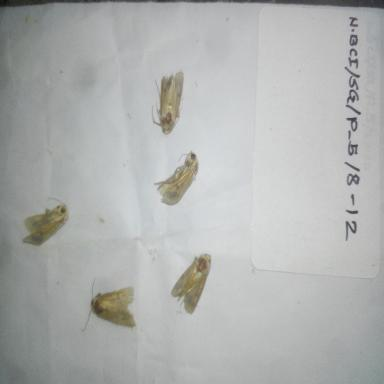abw: (166, 247, 219, 318), (79, 274, 140, 335), (18, 191, 73, 250), (152, 146, 203, 208), (148, 64, 188, 140)
